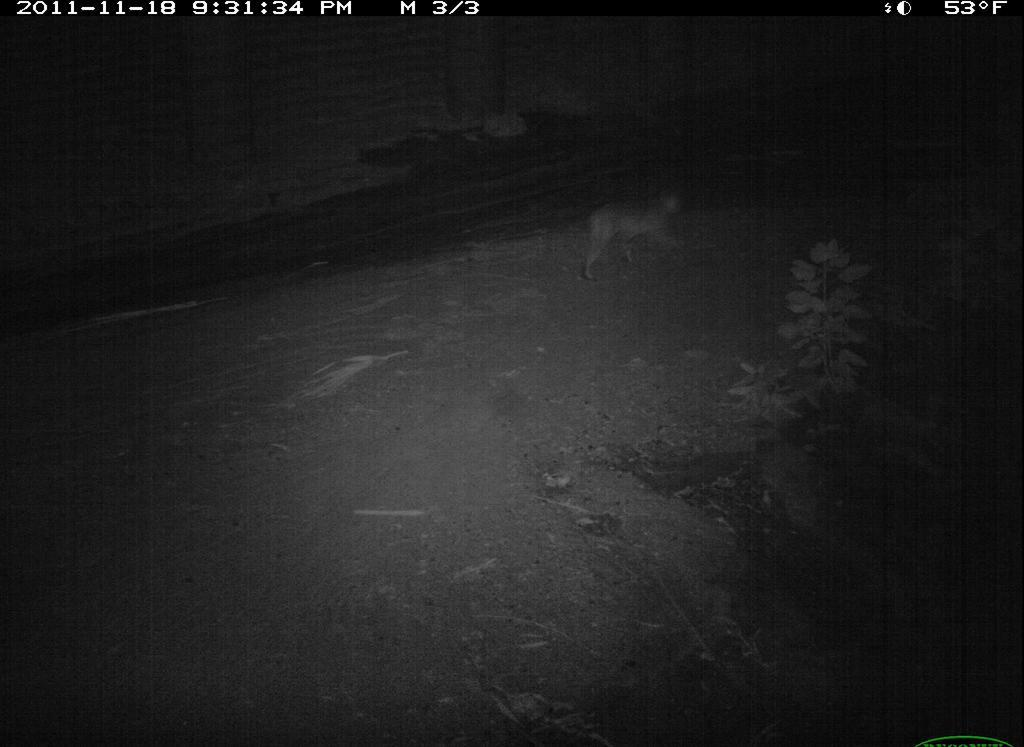bobcat: (562, 178, 697, 295)
